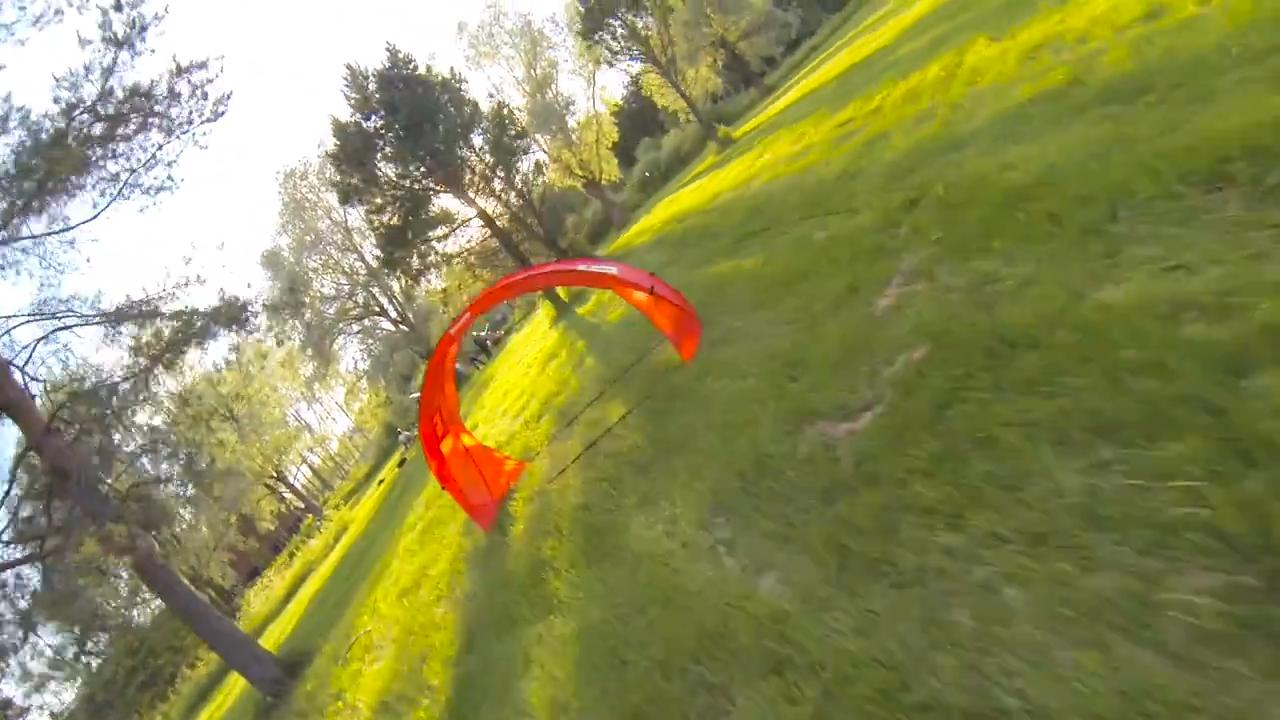gate: (416, 253, 703, 535)
